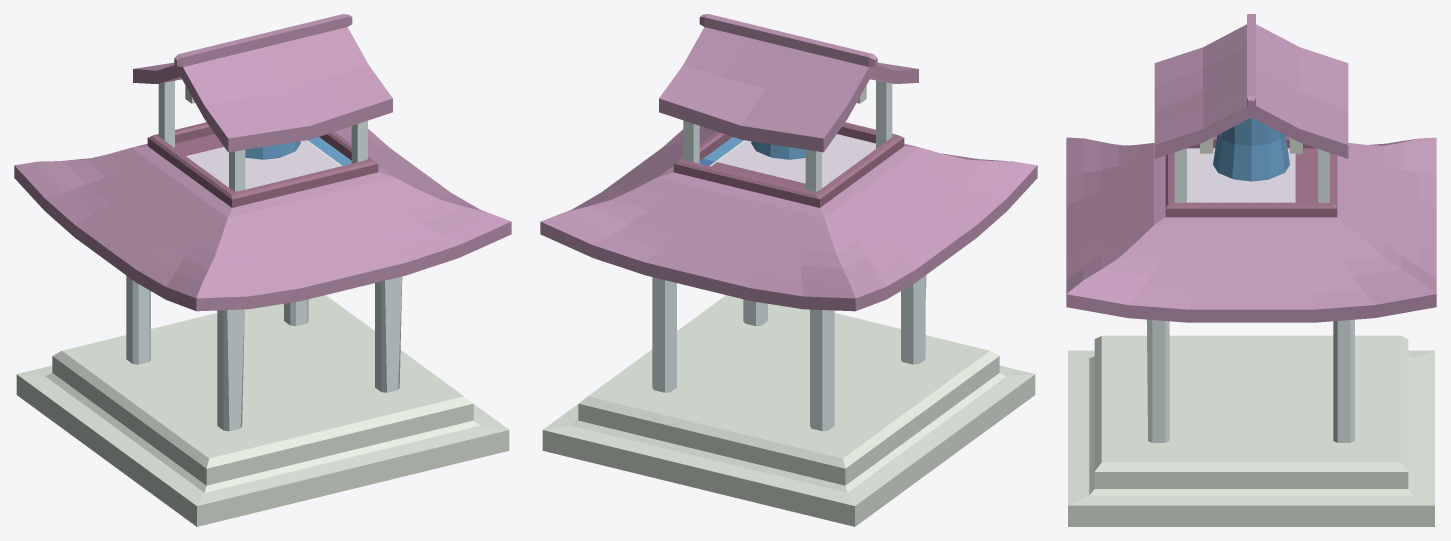
The model's file is HouseSSLP.fbx.
3 renders of one model, left to right at view 1: azimuth 30°, elevation 25°; view 2: azimuth 150°, elevation 25°; view 3: azimuth 270°, elevation 25°, orthographic.
Parts seen in each view (by area): view 1: Cube.004; view 2: Cube.004; view 3: Cube.004.
Part boxes in pixels (x1,y1,x2,y2): Cube.004: (14, 14, 511, 526); Cube.004: (540, 14, 1037, 526); Cube.004: (1066, 14, 1436, 526).
Size of the model in its own units: 383 by 449 by 383.
